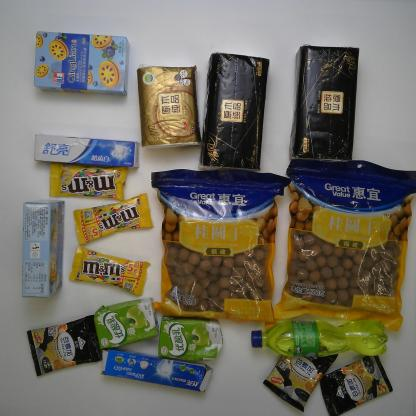Chocolate: (72, 192, 154, 246), (68, 245, 151, 296), (49, 162, 129, 202)
Dessert: (33, 31, 130, 96), (22, 199, 66, 298)
Dried Food: (272, 158, 416, 332), (150, 169, 292, 324)
Drink: (250, 319, 389, 357)
Instant Drink: (262, 341, 339, 413), (27, 314, 102, 377), (320, 355, 393, 416)
Milk: (93, 297, 160, 350), (158, 316, 223, 362)
Personal Hygiene: (100, 349, 214, 394), (33, 134, 140, 168)
Tissue: (198, 51, 270, 176), (288, 44, 360, 163), (136, 65, 202, 149)
